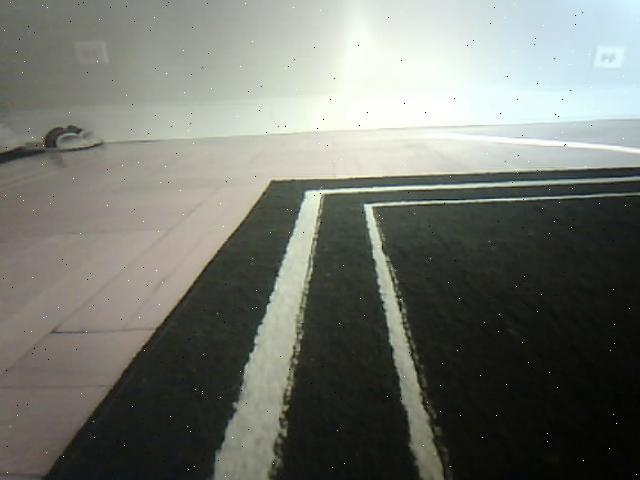curved-road-line: (304, 174, 640, 198), (365, 189, 640, 208)
road-line: (201, 191, 330, 480), (362, 206, 450, 480)
